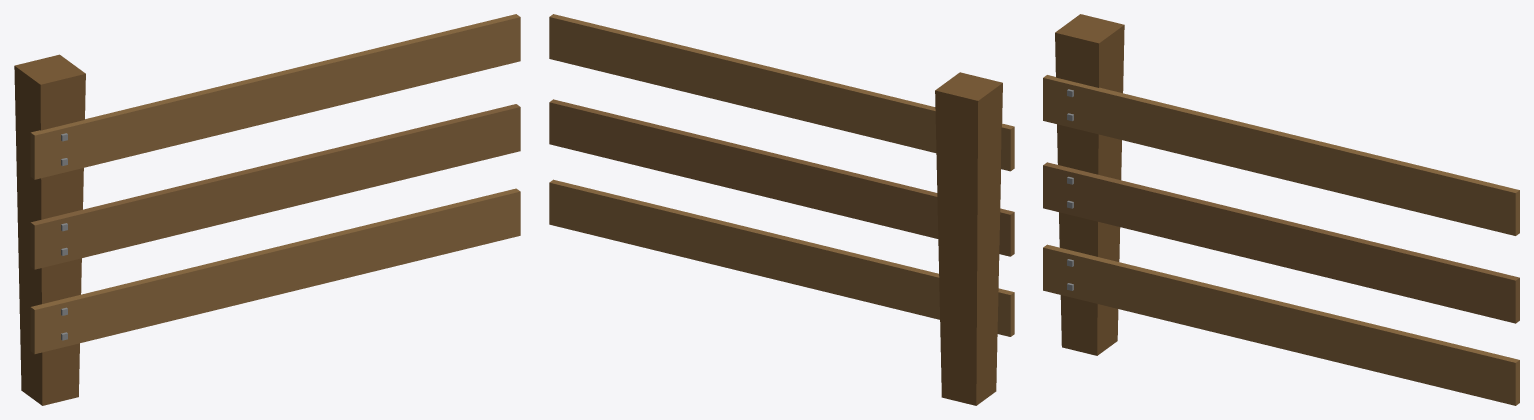
The model's file is SM_Props_FenceBoarder_01.obj.
3 renders of one model, left to right at view 1: azimuth 30°, elevation 25°; view 2: azimuth 150°, elevation 25°; view 3: azimuth 330°, elevation 25°, orthographic. The views are drawn at different scales.
Visible parts, largest first — view 1: SM_Props_FenceBoarder_01_Mat_SwatchOverlay_Farm_Main_01_Inst; view 2: SM_Props_FenceBoarder_01_Mat_SwatchOverlay_Farm_Main_01_Inst; view 3: SM_Props_FenceBoarder_01_Mat_SwatchOverlay_Farm_Main_01_Inst.
Part boxes in pixels (<box>): SM_Props_FenceBoarder_01_Mat_SwatchOverlay_Farm_Main_01_Inst: <box>14,14,520,405</box>; SM_Props_FenceBoarder_01_Mat_SwatchOverlay_Farm_Main_01_Inst: <box>549,14,1014,405</box>; SM_Props_FenceBoarder_01_Mat_SwatchOverlay_Farm_Main_01_Inst: <box>1043,14,1519,405</box>.
Size of the model in its own units: 1.73 by 1.1 by 0.1903.
Materials: 1 (1 with a texture image).
